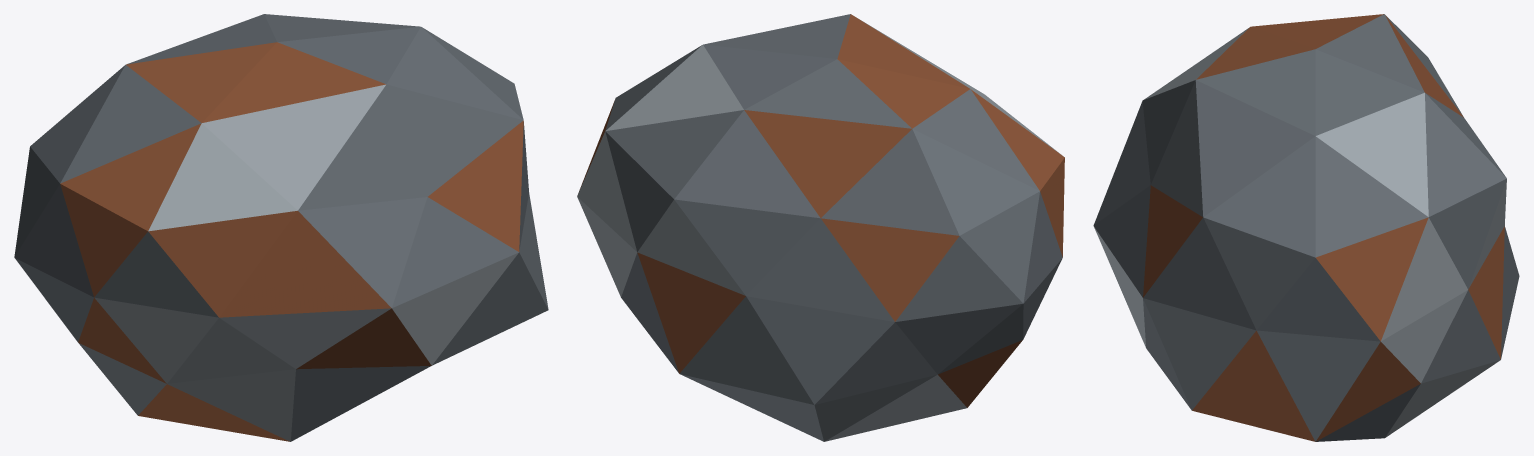
3 views of the same model, side by side, from view 1: azimuth 30°, elevation 25°; view 2: azimuth 150°, elevation 25°; view 3: azimuth 270°, elevation 25° (orthographic). The views are drawn at different scales.
Visible parts, largest first — view 1: Iron_Fragment; view 2: Iron_Fragment; view 3: Iron_Fragment.
Boxes of the visible parts, bbox=[...] form: Iron_Fragment: bbox=[14, 14, 548, 441]; Iron_Fragment: bbox=[577, 14, 1064, 441]; Iron_Fragment: bbox=[1093, 14, 1519, 441].
Bounding box in the file's own units: 0.4 × 0.3 × 0.32.
